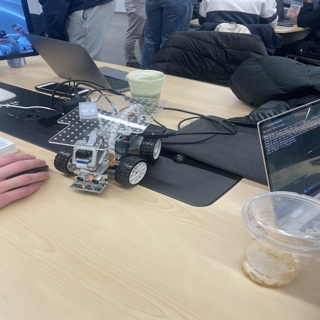vehicle: (48, 91, 166, 194)
